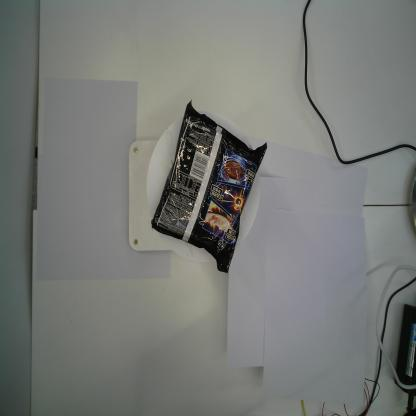Instant Noodles: (148, 97, 268, 274)
